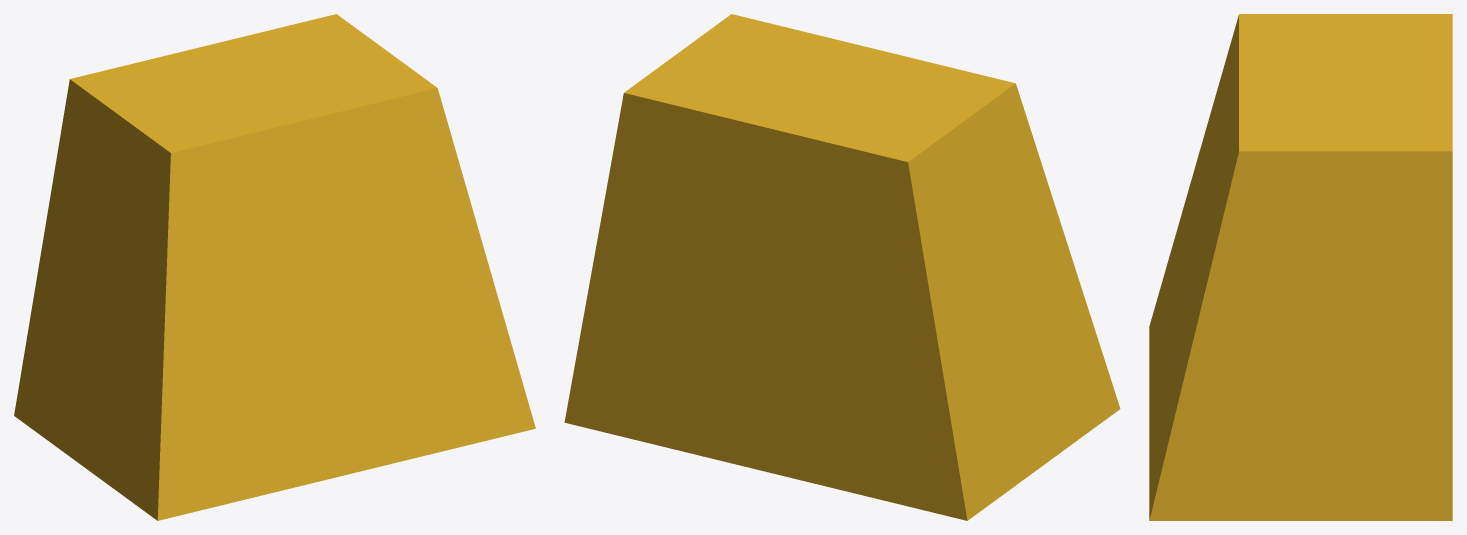
Rendered from SK_Base(torso) 1.fbx.
3 views of the same model, side by side, from view 1: azimuth 30°, elevation 25°; view 2: azimuth 150°, elevation 25°; view 3: azimuth 270°, elevation 25° (orthographic). The views are drawn at different scales.
Parts seen in each view (by area): view 1: Base_Torso; view 2: Base_Torso; view 3: Base_Torso.
Boxes of the visible parts, x1,y1,x2,y2 form: Base_Torso: (14,14,535,520); Base_Torso: (564,14,1120,520); Base_Torso: (1149,14,1452,520).
Bounding box in the file's own units: 1916 × 1564 × 1260.
